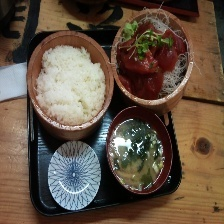rice: (33, 41, 109, 128)
